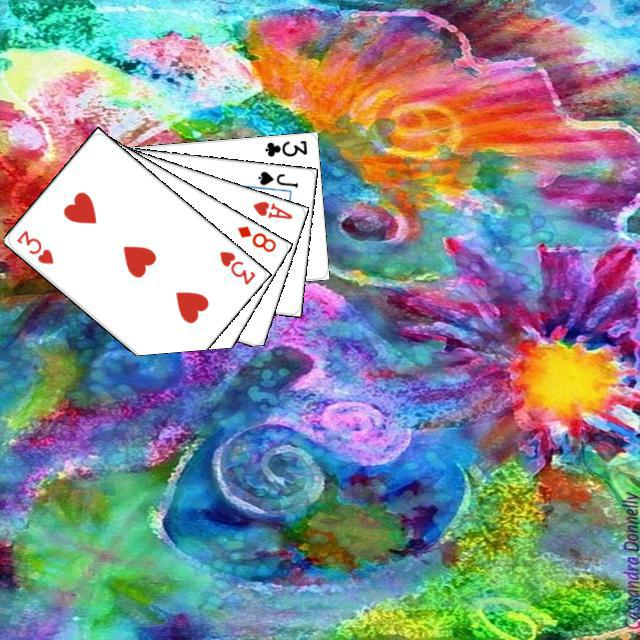3c: (260, 135, 308, 159)
3h: (11, 225, 55, 266), (214, 246, 257, 287)
8d: (232, 221, 278, 254)
Ah: (248, 196, 294, 221)
Js: (253, 166, 300, 189)
